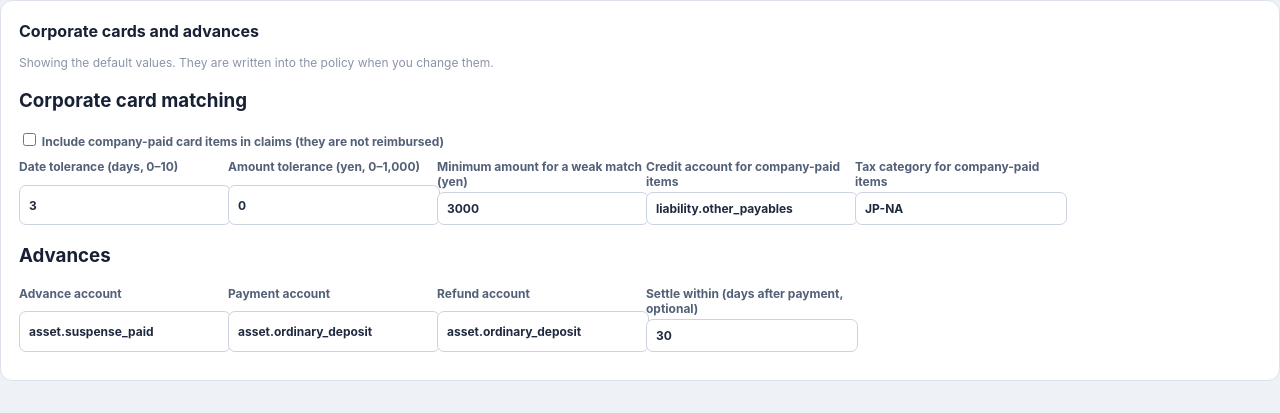
MoneySettingsSection › 正常: 精算の目安日数は任意（空で消す）
Replace the text in the field labelled "Settle within (days after payment, optional)" with "45" at {"x": 752, "y": 335}, box [646,319,858,352]
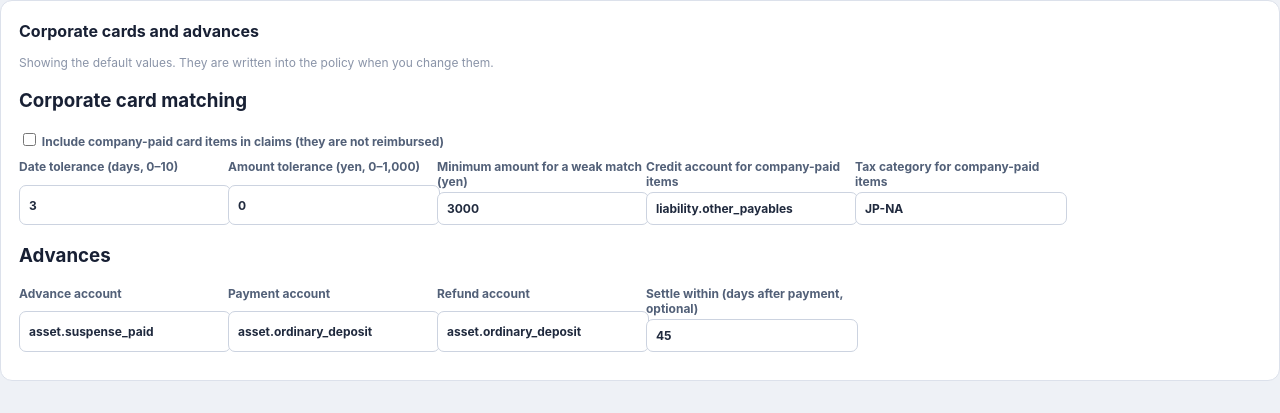
Replace the text in the field labelled "Settle within (days after payment, optional)" with "366" at {"x": 752, "y": 335}, box [646,319,858,352]
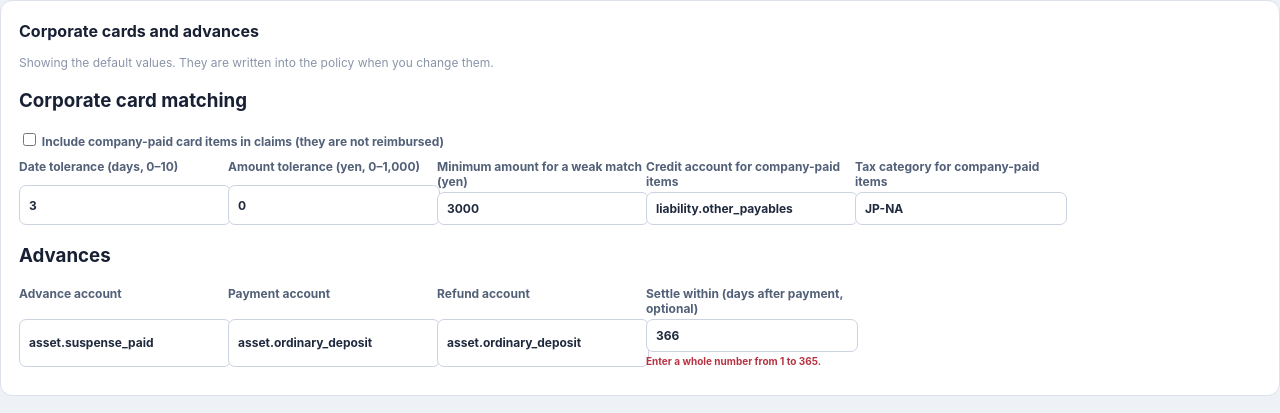
Check: the text "Enter a whole number from 1 to 365." is shown, box [646,355,821,367]
